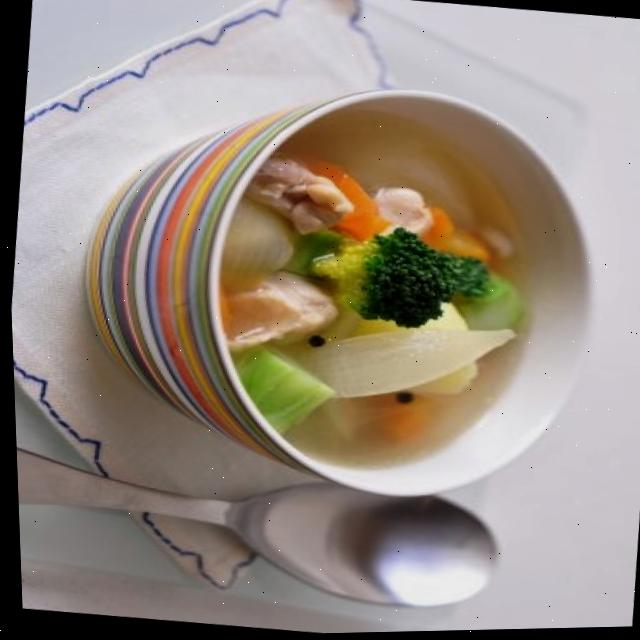汤锅炖物: (50, 40, 634, 533)
